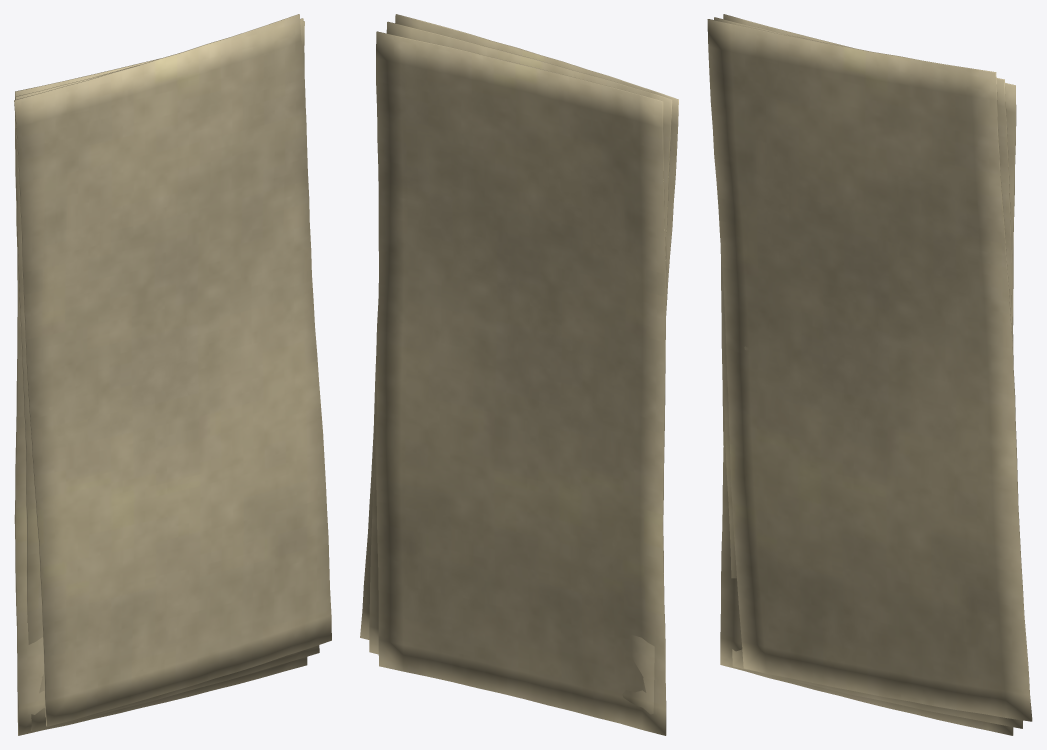
3 renders of one model, left to right at view 1: azimuth 30°, elevation 25°; view 2: azimuth 150°, elevation 25°; view 3: azimuth 330°, elevation 25°, orthographic.
Visible parts, largest first — view 1: brief; view 2: brief; view 3: brief.
Boxes of the visible parts, <box> form: brief: <box>14,14,331,735</box>; brief: <box>360,14,678,735</box>; brief: <box>707,14,1032,735</box>.
Size of the model in its own units: 0.1093 by 0.215 by 0.00762.
1 material, 1 textured.
